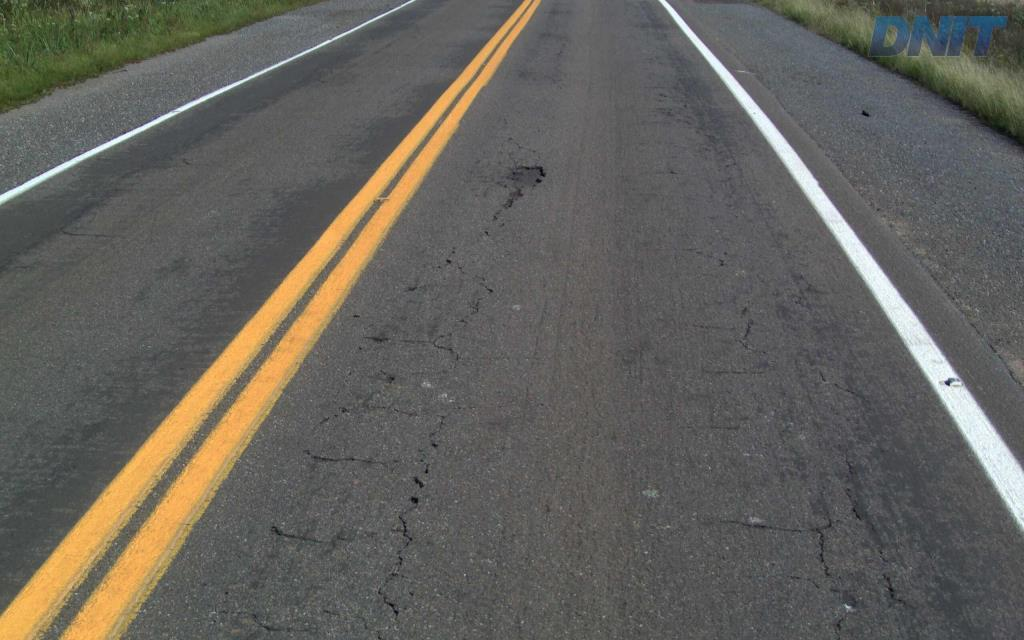crack: (850, 499, 888, 565)
